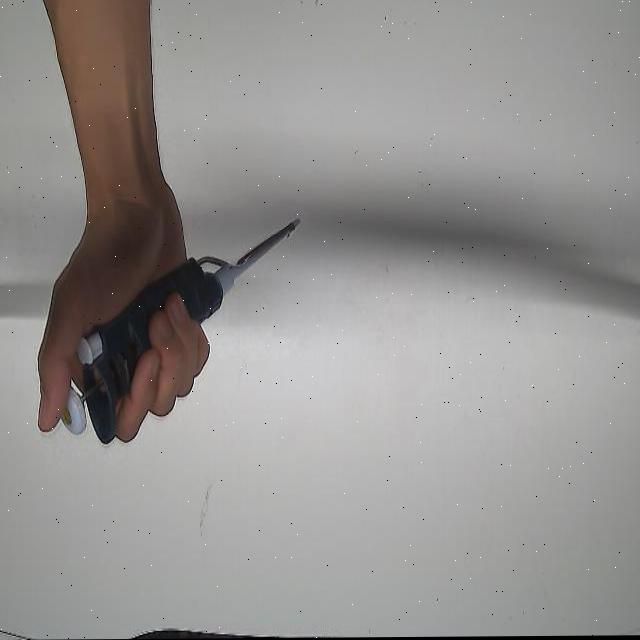Single Channel Pipettor: (59, 214, 304, 446)
